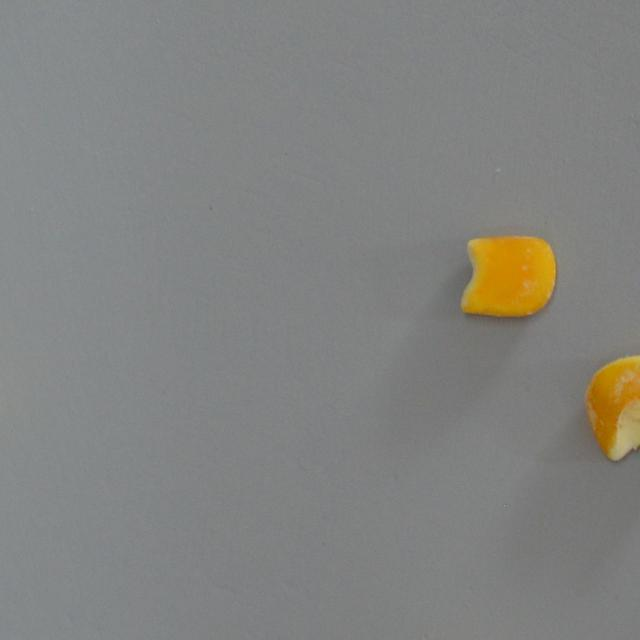pelicula: (456, 233, 562, 322), (582, 346, 640, 470)
